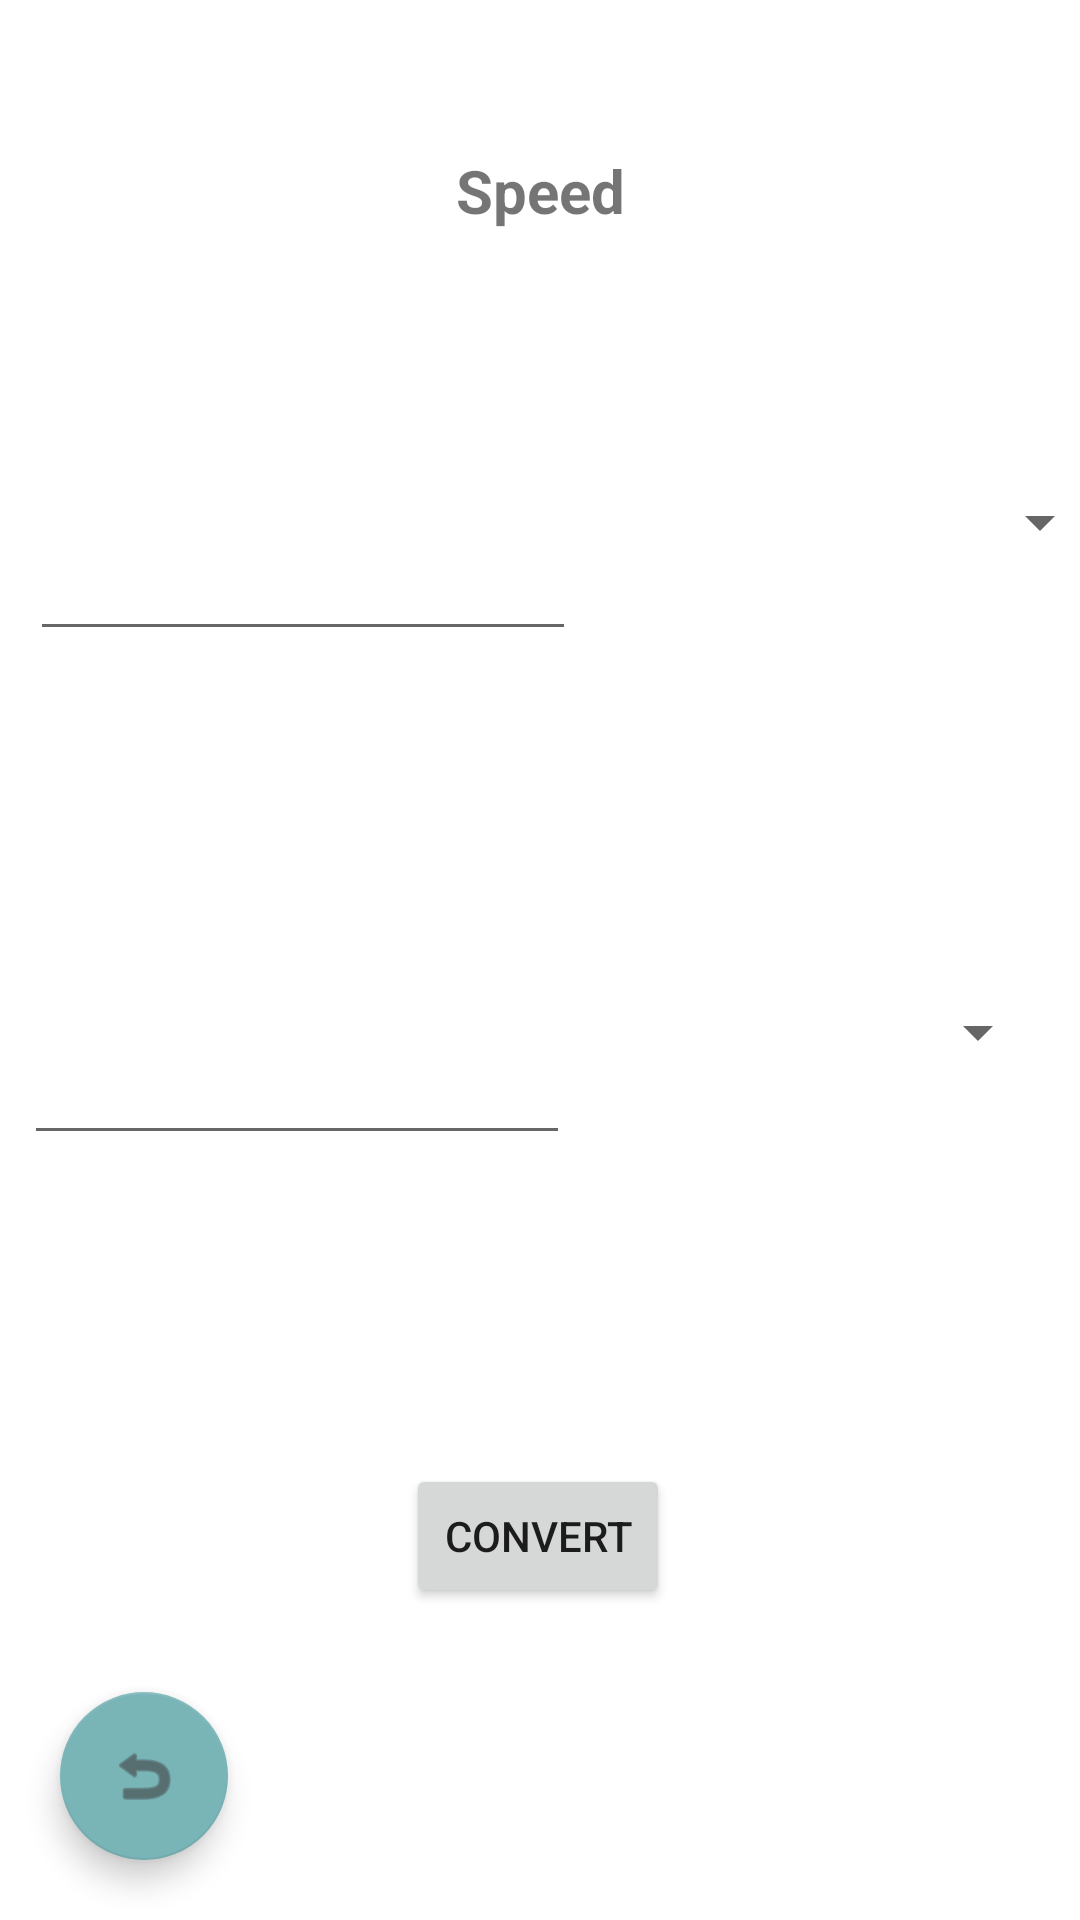

Point at icon controls on the screen. Image size 1080×1920, points as (x=x, y=y).
revert: (x=144, y=1776)
